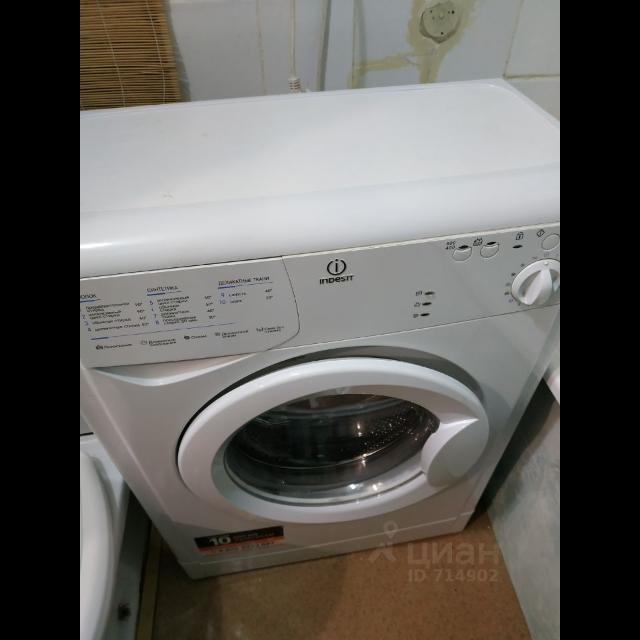Washing-Machine: (80, 78, 560, 580)
